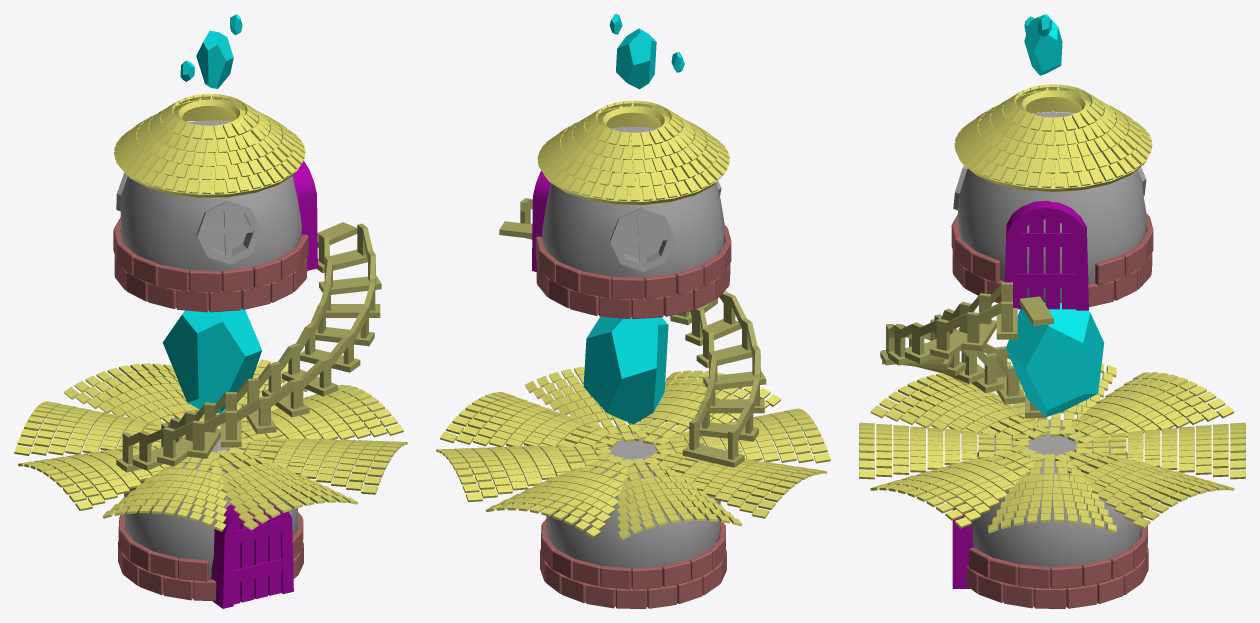
File: Mage_Hut.fbx
The picture shows the model from 3 angles, left to right: view 1: azimuth 30°, elevation 25°; view 2: azimuth 150°, elevation 25°; view 3: azimuth 270°, elevation 25°; orthographic projection. The views are drawn at different scales.
Parts seen in each view (by area): view 1: Roofs, Huts, Stair_Case, Bricks, Crystals, Doors, Windows_Adds; view 2: Roofs, Huts, Bricks, Crystals, Stair_Case, Doors, Windows_Adds; view 3: Roofs, Huts, Bricks, Stair_Case, Crystals, Doors.
Part boxes in pixels (<box>): Roofs: <box>14,93,407,531</box>; Huts: <box>116,120,301,579</box>; Stair_Case: <box>116,222,381,472</box>; Bricks: <box>113,217,308,600</box>; Crystals: <box>162,14,261,413</box>; Doors: <box>211,160,317,608</box>; Windows_Adds: <box>205,209,253,256</box>; Roofs: <box>436,100,830,539</box>; Huts: <box>542,126,724,568</box>; Bricks: <box>535,225,731,608</box>; Crystals: <box>583,14,684,424</box>; Stair_Case: <box>499,198,766,467</box>; Doors: <box>532,170,550,271</box>; Windows_Adds: <box>618,216,667,264</box>; Roofs: <box>859,84,1245,533</box>; Huts: <box>953,112,1146,586</box>; Bricks: <box>951,213,1153,608</box>; Stair_Case: <box>880,282,1053,418</box>; Crystals: <box>1006,14,1104,417</box>; Doors: <box>952,200,1088,588</box>.
Bounding box in the file's own units: 89.37 × 146 × 89.37.
